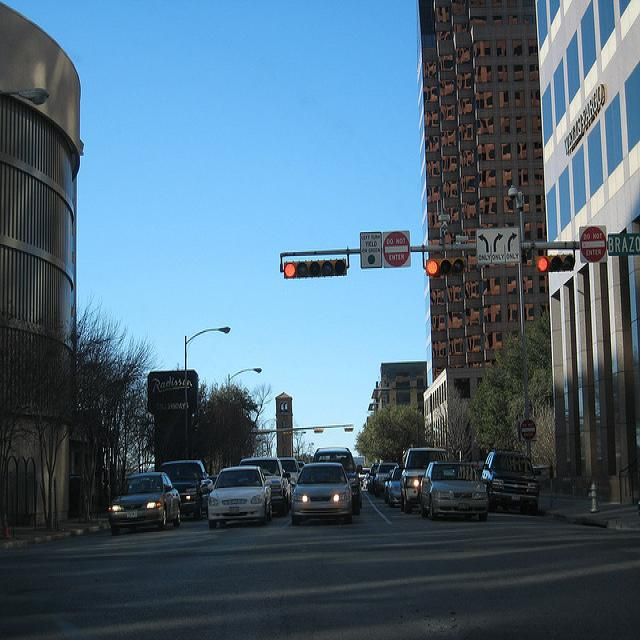Vehicle: (201, 450, 379, 510), (108, 472, 182, 535), (418, 461, 490, 523), (289, 457, 351, 527), (208, 464, 272, 528), (482, 450, 540, 515), (311, 444, 363, 514), (238, 457, 292, 518), (158, 460, 212, 519), (400, 448, 448, 514), (158, 461, 207, 518), (382, 465, 404, 506), (374, 462, 398, 498), (279, 457, 299, 497), (358, 467, 372, 486)
